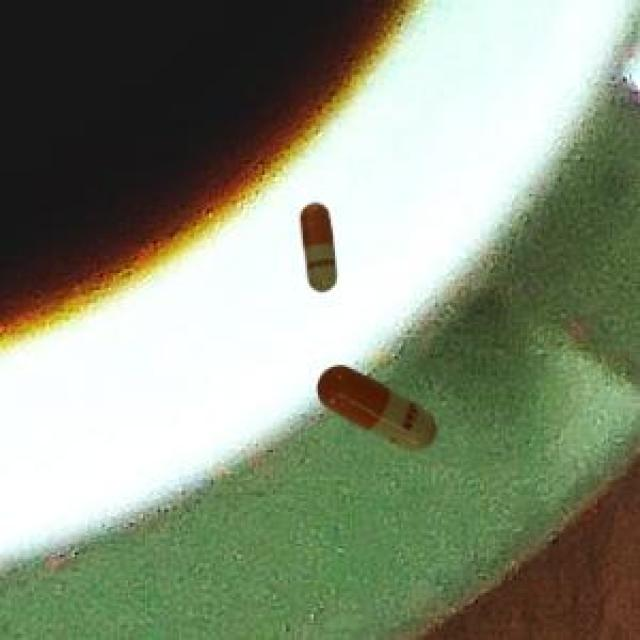Alaxan: (307, 354, 445, 461), (283, 194, 355, 304)
